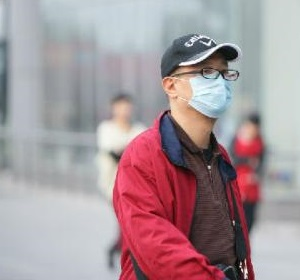person: (109, 31, 260, 280), (99, 92, 150, 200), (229, 109, 272, 230)
